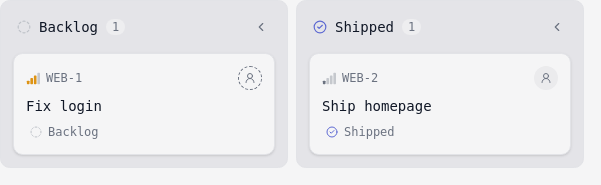
it: kanban status collapse › the header control collapses a status to a strip and expands it again
The image size is (601, 185).
Click the button named "collapse backlog" at (261, 27), box [251,17,271,37]
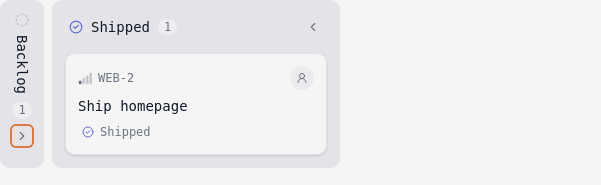
Expected: the heading "Backlog 1" is shown, [12,13,32,146]
Result: the button "Fix login" is gone
Click the button named "expand backlog" at (22, 136), box [12,126,32,146]
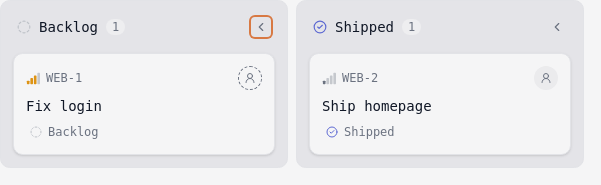
Result: the text "Fix login" is shown at [26,98,102,114]
